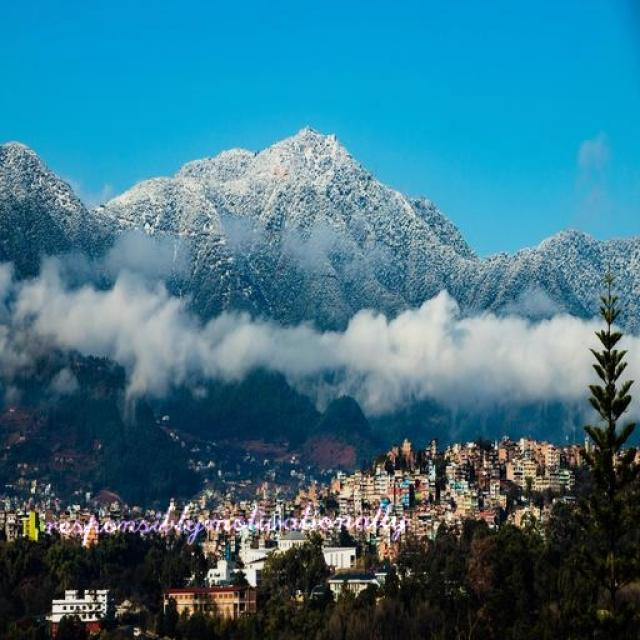watermark: (35, 500, 409, 539)
